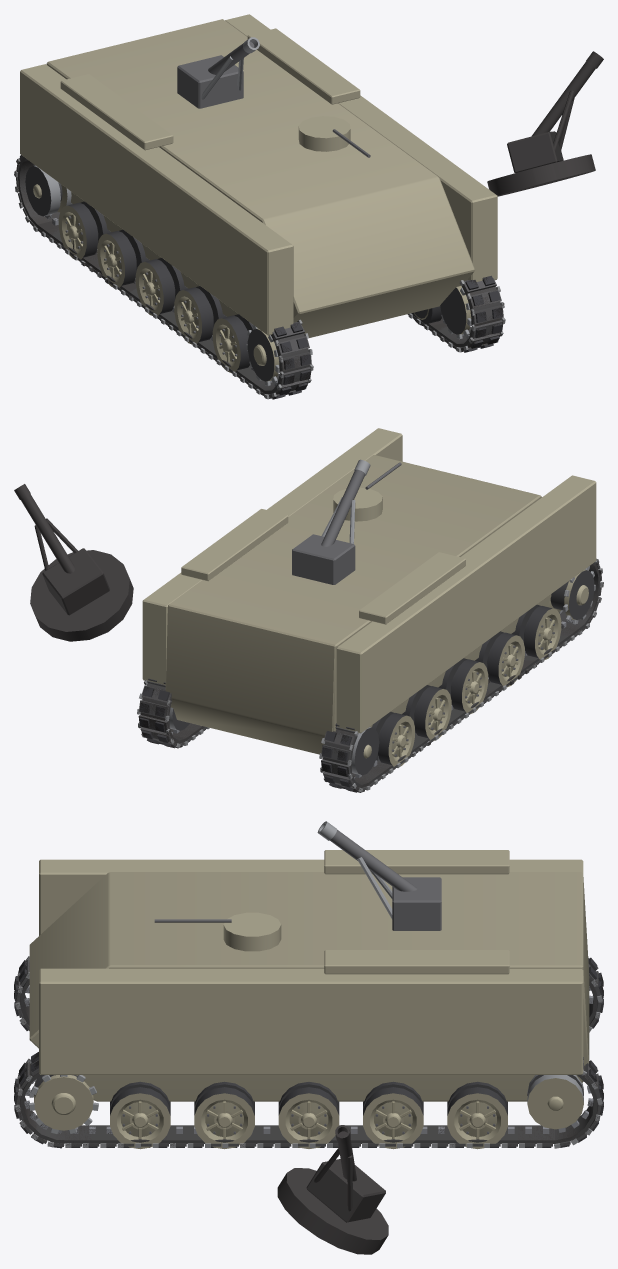
Rendered from artillery__k281a1.glb.
3 renders of one model, top to bottom at view 1: azimuth 30°, elevation 25°; view 2: azimuth 150°, elevation 25°; view 3: azimuth 270°, elevation 25°, orthographic. The views are drawn at different scales.
Parts seen in each view (by area): view 1: Hull_Mesh, Wreck, Track_L_Mesh, Track_R_Mesh, Turret_Mesh, Wheel_L0_Mesh, Wheel_L2_Mesh, Wheel_L3_Mesh, Wheel_L1_Mesh, Wheel_L4_Mesh, Idler_L_Mesh, Sprocket_L_Mesh (+2 smaller); view 2: Hull_Mesh, Wreck, Track_L_Mesh, Turret_Mesh, Track_R_Mesh, Wheel_L2_Mesh, Wheel_L3_Mesh, Wheel_L4_Mesh, Wheel_L1_Mesh, Wheel_L0_Mesh, Sprocket_L_Mesh, Gun_Mesh (+1 smaller); view 3: Hull_Mesh, Wreck, Track_R_Mesh, Wheel_R3_Mesh, Wheel_R4_Mesh, Wheel_R2_Mesh, Wheel_R1_Mesh, Wheel_R0_Mesh, Sprocket_R_Mesh, Idler_R_Mesh, Turret_Mesh, Gun_Mesh (+1 smaller).
Part boxes in pixels (left/top/right/bottom): Hull_Mesh: left=20, top=14, right=497, bottom=337; Wreck: left=14, top=51, right=603, bottom=398; Track_L_Mesh: left=14, top=155, right=313, bottom=399; Track_R_Mesh: left=407, top=275, right=505, bottom=352; Turret_Mesh: left=177, top=55, right=243, bottom=108; Wheel_L0_Mesh: left=58, top=201, right=110, bottom=259; Wheel_L2_Mesh: left=135, top=258, right=187, bottom=315; Wheel_L3_Mesh: left=174, top=286, right=226, bottom=344; Wheel_L1_Mesh: left=97, top=229, right=149, bottom=287; Wheel_L4_Mesh: left=212, top=314, right=253, bottom=372; Idler_L_Mesh: left=25, top=165, right=72, bottom=216; Sprocket_L_Mesh: left=246, top=325, right=279, bottom=386; Hull_Mesh: left=142, top=428, right=596, bottom=754; Wreck: left=14, top=484, right=603, bottom=792; Track_L_Mesh: left=319, top=559, right=603, bottom=792; Turret_Mesh: left=292, top=534, right=355, bottom=584; Track_R_Mesh: left=137, top=678, right=209, bottom=748; Wheel_L2_Mesh: left=438, top=658, right=488, bottom=713; Wheel_L3_Mesh: left=475, top=631, right=524, bottom=687; Wheel_L4_Mesh: left=511, top=604, right=561, bottom=660; Wheel_L1_Mesh: left=402, top=685, right=451, bottom=740; Wheel_L0_Mesh: left=372, top=711, right=414, bottom=766; Sprocket_L_Mesh: left=547, top=566, right=595, bottom=624; Gun_Mesh: left=321, top=459, right=370, bottom=546; Hull_Mesh: left=29, top=850, right=589, bottom=1101; Wreck: left=14, top=956, right=603, bottom=1254; Track_R_Mesh: left=14, top=1053, right=603, bottom=1148; Wheel_R3_Mesh: left=194, top=1081, right=254, bottom=1149; Wheel_R4_Mesh: left=110, top=1081, right=170, bottom=1149; Wheel_R2_Mesh: left=278, top=1082, right=339, bottom=1148; Wheel_R1_Mesh: left=363, top=1081, right=423, bottom=1149; Wheel_R0_Mesh: left=447, top=1081, right=507, bottom=1149; Sprocket_R_Mesh: left=28, top=1075, right=98, bottom=1134; Idler_R_Mesh: left=527, top=1075, right=583, bottom=1129; Turret_Mesh: left=392, top=877, right=441, bottom=930; Gun_Mesh: left=317, top=821, right=417, bottom=919.
Size of what is drawn, in the model's own units: 5.83 by 2.88 by 5.73.
